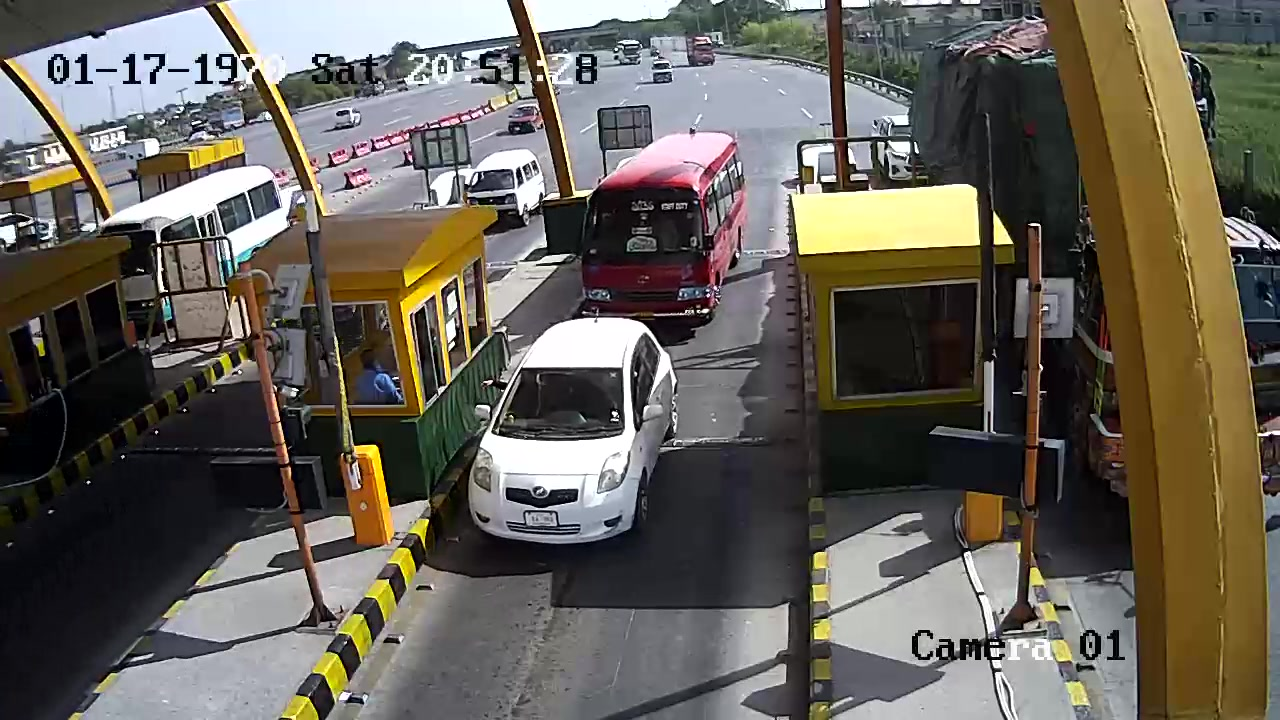F1: (464, 314, 684, 554)
F3: (579, 133, 754, 337)
